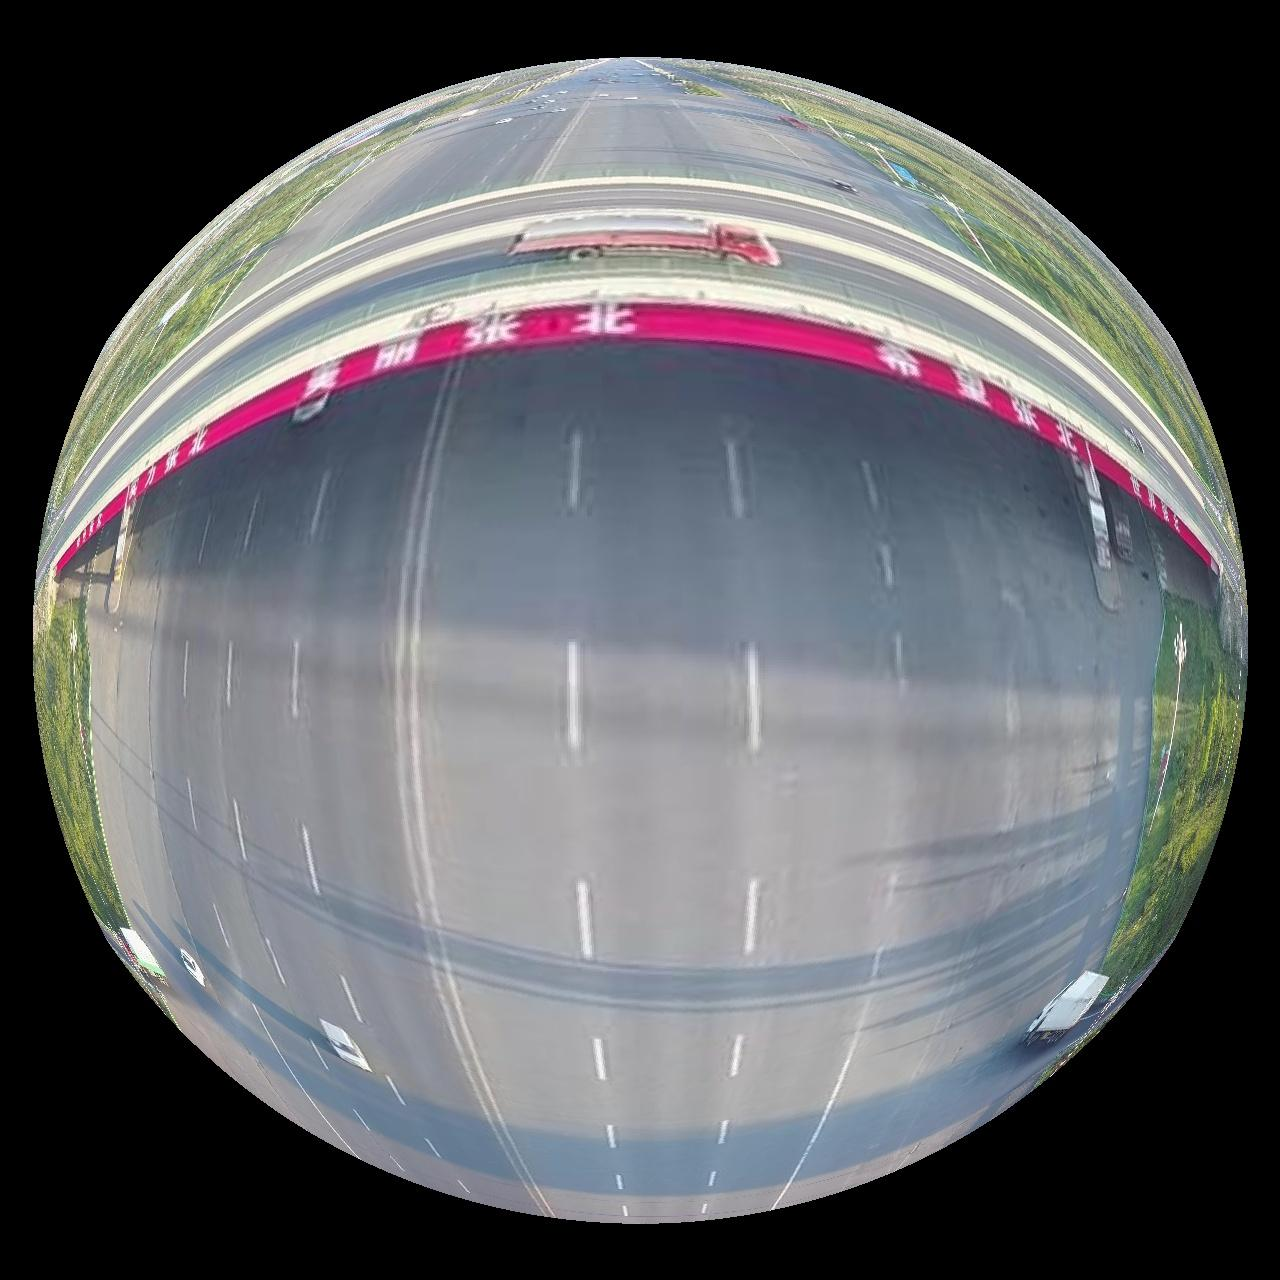cars: (508, 212, 782, 266), (1027, 972, 1111, 1043), (320, 1021, 370, 1074), (178, 949, 207, 989)
trees: (689, 61, 1231, 497), (53, 81, 479, 490), (1105, 594, 1248, 999), (32, 574, 125, 933)
